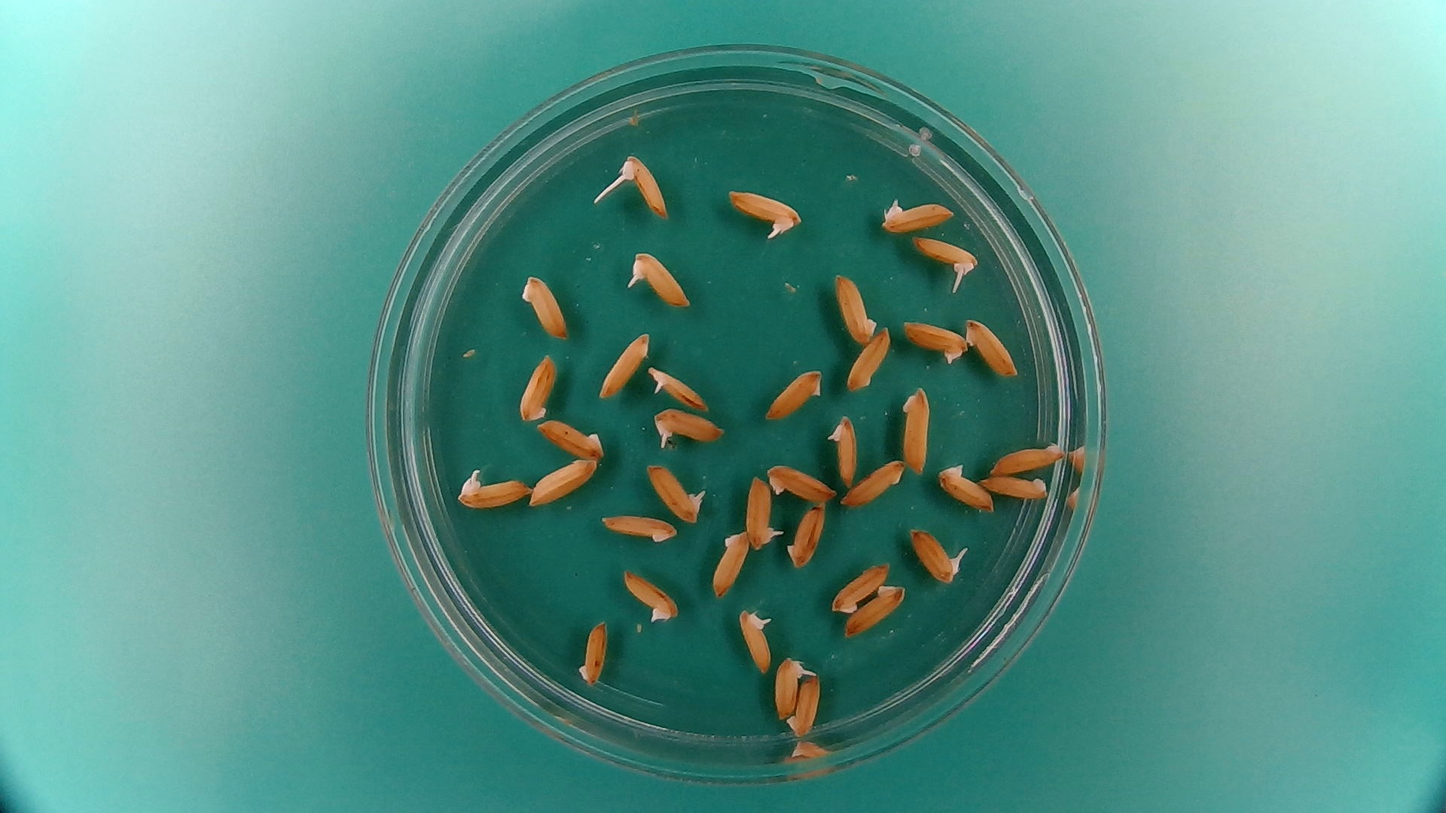no: (595, 326, 651, 400), (517, 269, 572, 343), (527, 455, 602, 507), (764, 363, 827, 423), (619, 565, 682, 624), (842, 584, 908, 640), (831, 269, 878, 346), (839, 457, 907, 510), (962, 316, 1019, 379), (844, 324, 894, 394), (829, 558, 891, 613), (984, 435, 1069, 475), (877, 193, 956, 236), (514, 349, 560, 422), (783, 498, 828, 571), (532, 416, 606, 460), (935, 460, 996, 513), (899, 317, 969, 363), (595, 508, 679, 546), (765, 460, 837, 504), (709, 526, 752, 598), (900, 386, 934, 476), (574, 614, 612, 689), (786, 671, 825, 738), (981, 470, 1051, 503)
yes: (724, 184, 804, 241), (625, 247, 694, 311), (641, 460, 706, 525), (613, 150, 672, 221), (908, 233, 981, 286), (908, 523, 968, 586), (649, 405, 730, 449), (647, 363, 713, 414), (453, 468, 533, 510), (744, 472, 784, 550), (737, 604, 775, 677), (827, 412, 861, 489), (772, 652, 807, 720)
